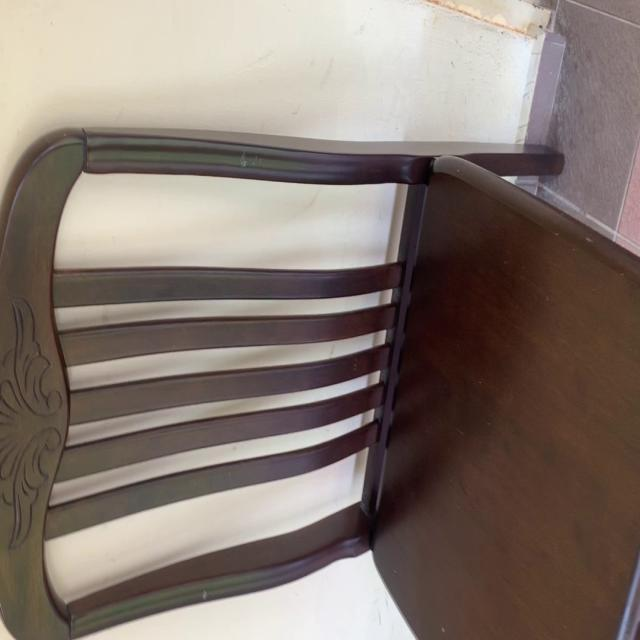chair: (1, 121, 640, 640)
